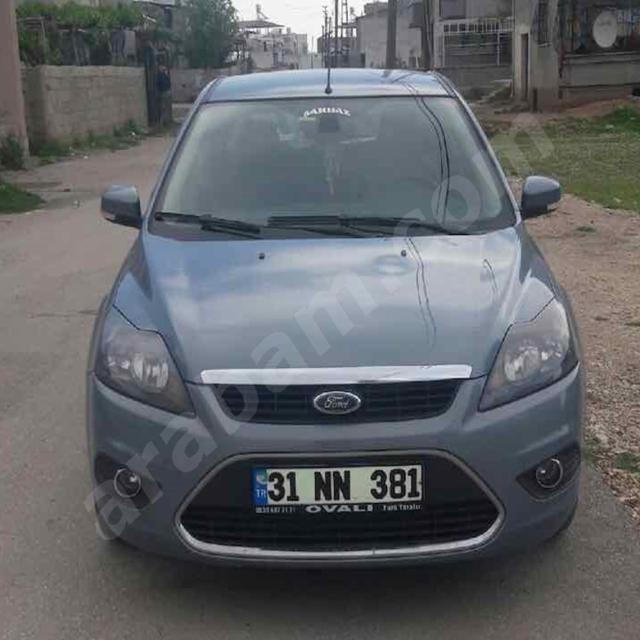license_plate: (252, 463, 423, 504)
